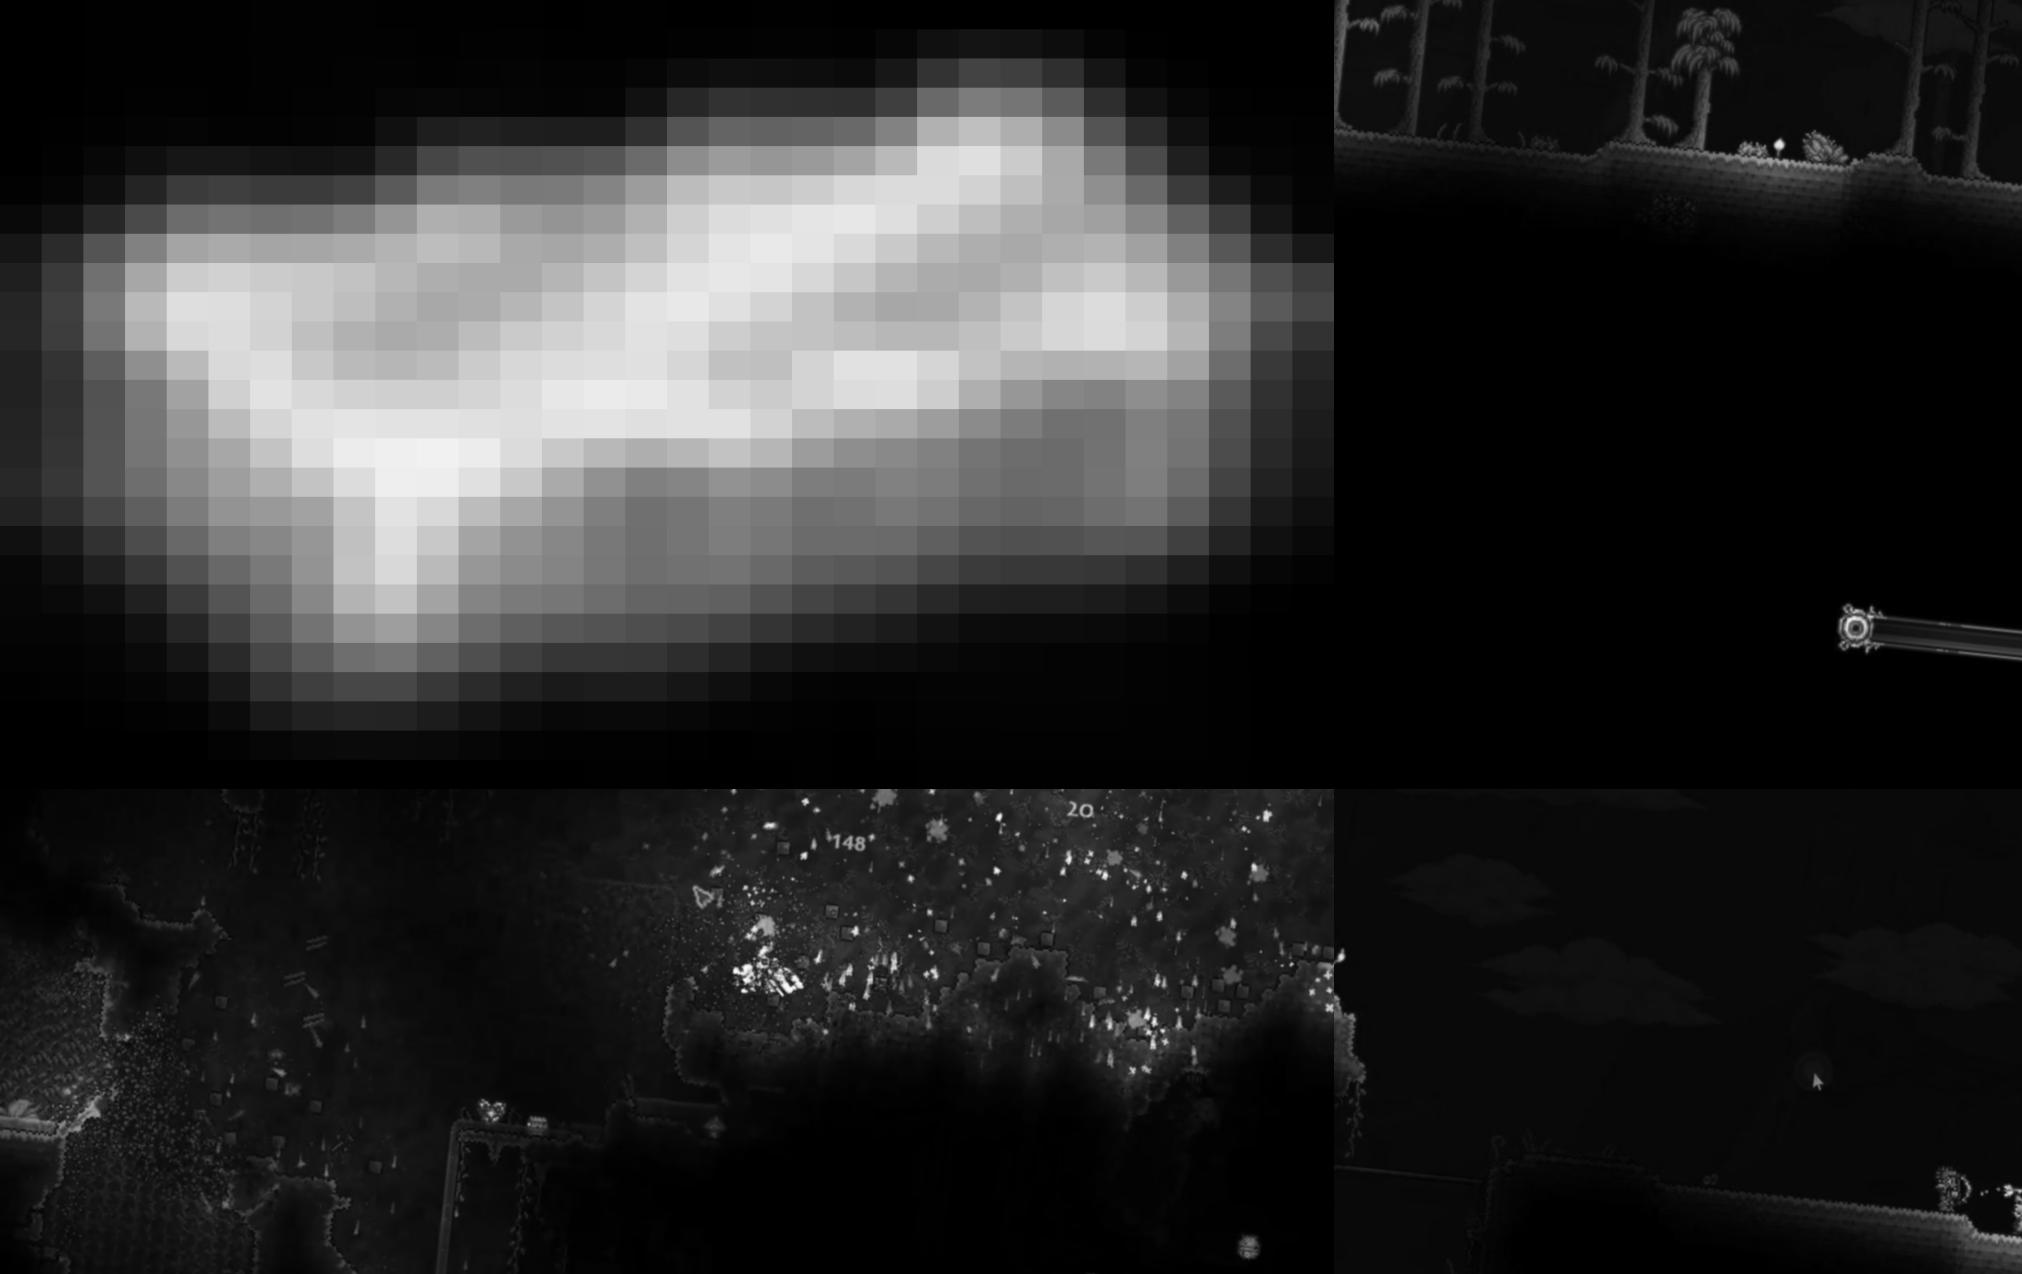bar: (0, 0, 1334, 790)
torchT: (1759, 134, 1808, 181)
